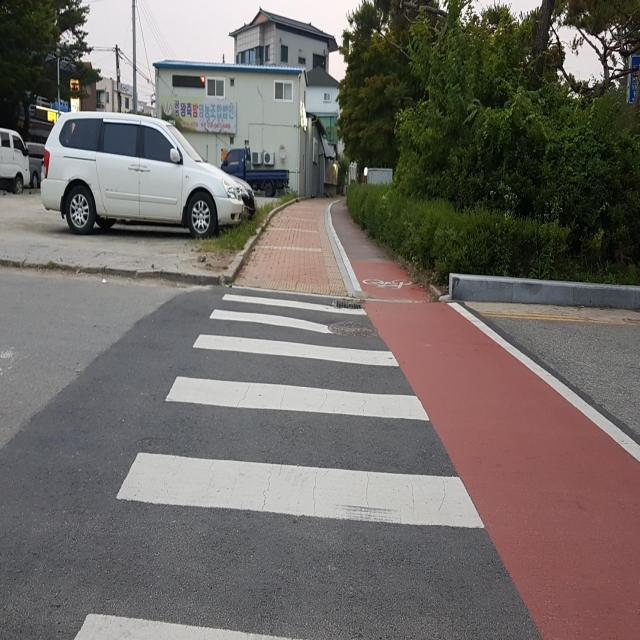횡단보도: (72, 286, 488, 640)
